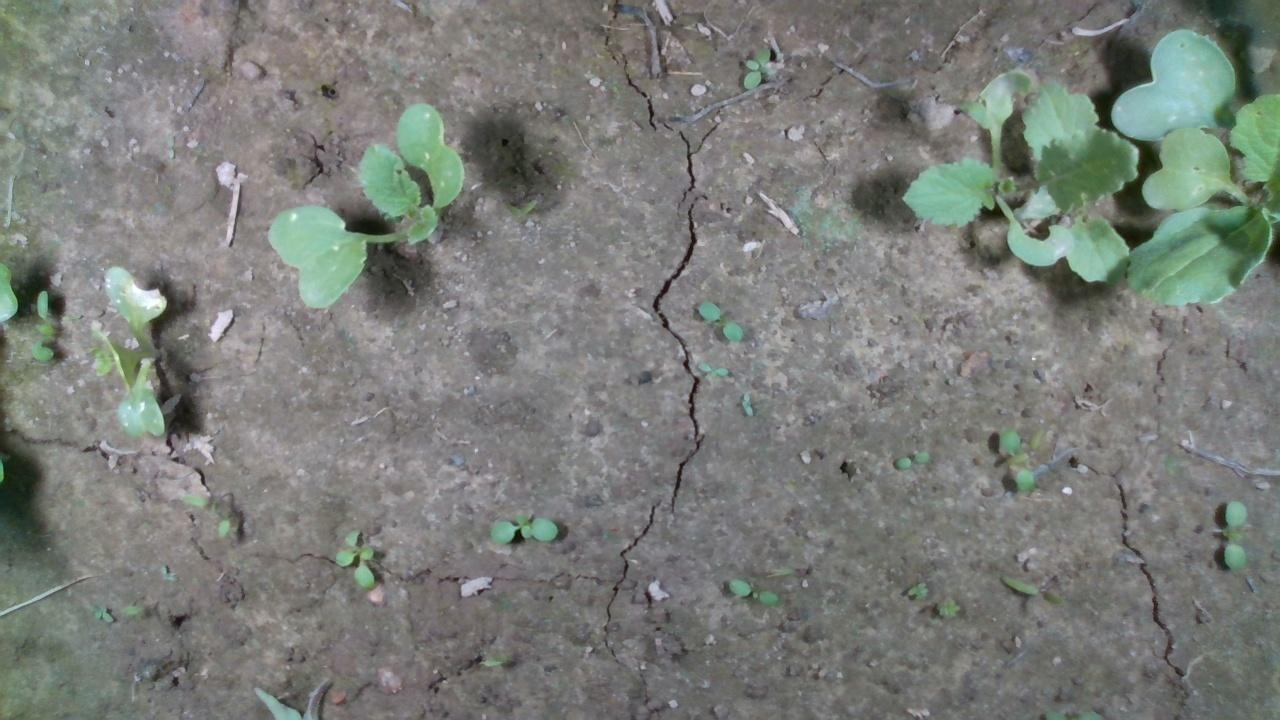weed: (332, 526, 377, 590), (487, 511, 560, 546), (696, 298, 744, 343), (1222, 496, 1248, 573), (739, 41, 773, 91), (725, 575, 779, 606), (892, 448, 930, 470), (694, 361, 727, 379), (737, 389, 753, 419)
